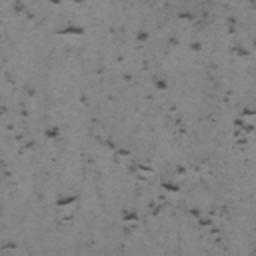Oxide scale of temperature system: (105, 10, 250, 243), (0, 95, 87, 177), (12, 0, 86, 36), (233, 106, 256, 146), (55, 195, 78, 206), (0, 241, 19, 252)
